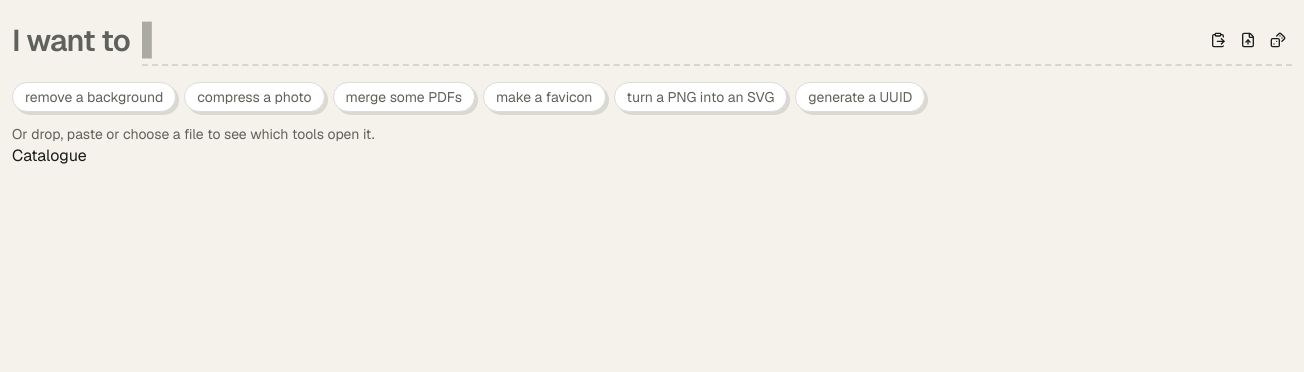
Test: ToolSearch as a sentence › fills the search from a suggestion
The image size is (1304, 372).
Click the button "merge some PDFs" at (404, 97), box x1=332 y1=82 x2=475 y2=112
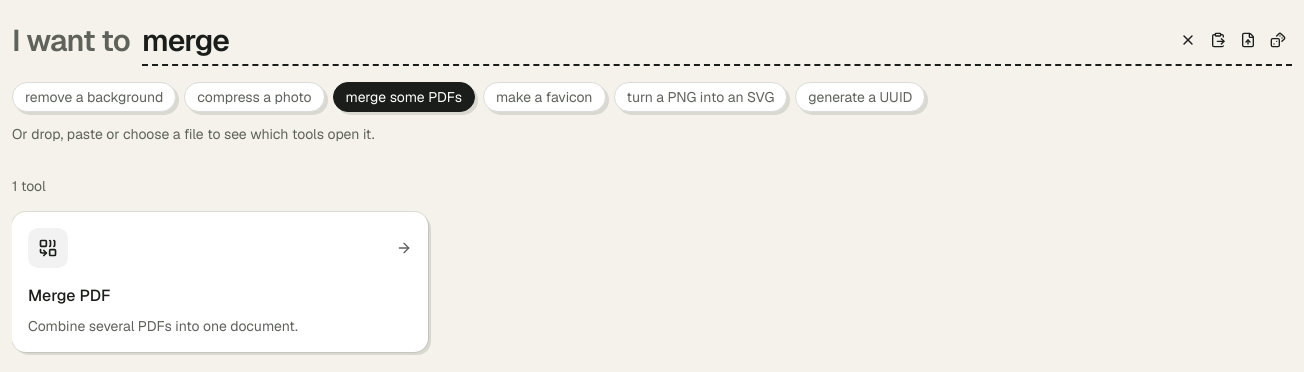
Check: the search field named "Search tools" holds "merge", box x1=142 y1=16 x2=1170 y2=64
Check: the text "Merge PDF" is shown, box x1=28 y1=285 x2=111 y2=306
